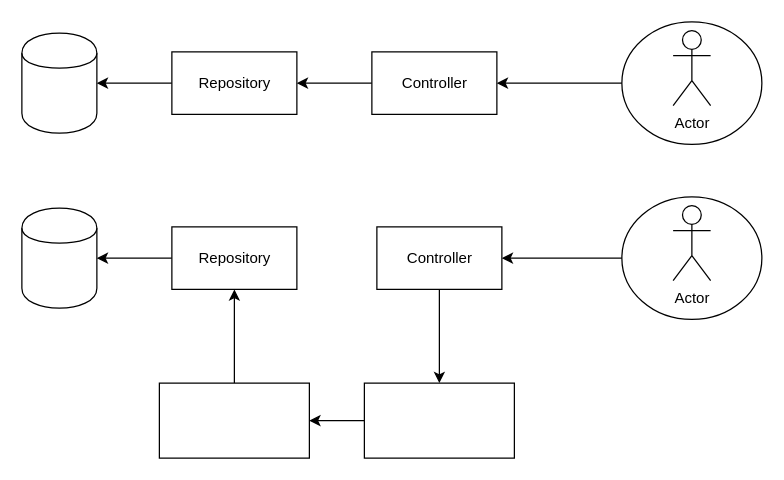
Some shapes in this 784 by 480 pixel diagram are drawn without their labels. The shapes that lost their labels are listed below. From the top down, each one's centre as x and y in pixels, then its label:
At pixel 233 420: "Kafka Consumer".
At pixel 438 420: "Kafka Producer".
